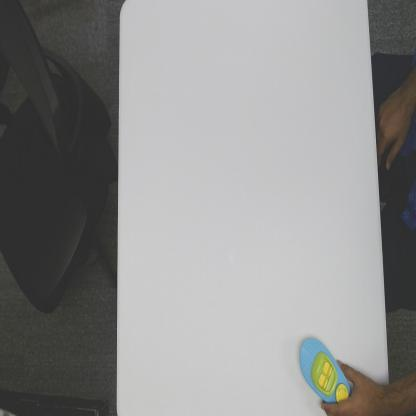Arm: (378, 380, 392, 416)
Boat: (298, 336, 352, 404)
Hand: (320, 360, 378, 416)
